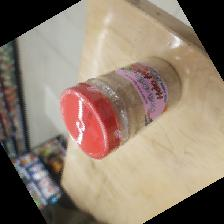Hao_hao: (59, 56, 183, 160)
